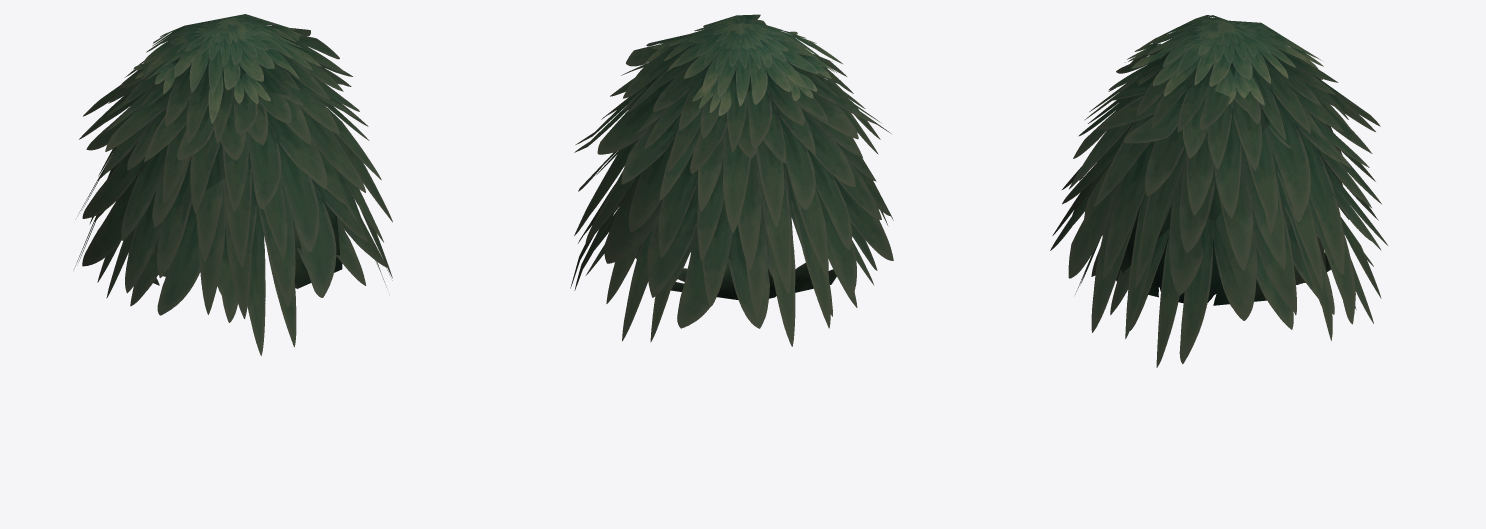
File: Prop_Bush_2_Darline_m.fbx
The picture shows the model from 3 angles, left to right: view 1: azimuth 30°, elevation 25°; view 2: azimuth 150°, elevation 25°; view 3: azimuth 270°, elevation 25°; orthographic projection. The views are drawn at different scales.
Visible parts, largest first — view 1: Prop_Bush_2_Darline_m; view 2: Prop_Bush_2_Darline_m; view 3: Prop_Bush_2_Darline_m.
Part boxes in pixels (box(x1,y1,x2,y2)): Prop_Bush_2_Darline_m: box(74, 14, 392, 355); Prop_Bush_2_Darline_m: box(570, 14, 893, 346); Prop_Bush_2_Darline_m: box(1050, 15, 1387, 367).
Size of the model in its own units: 140 by 125 by 129.
